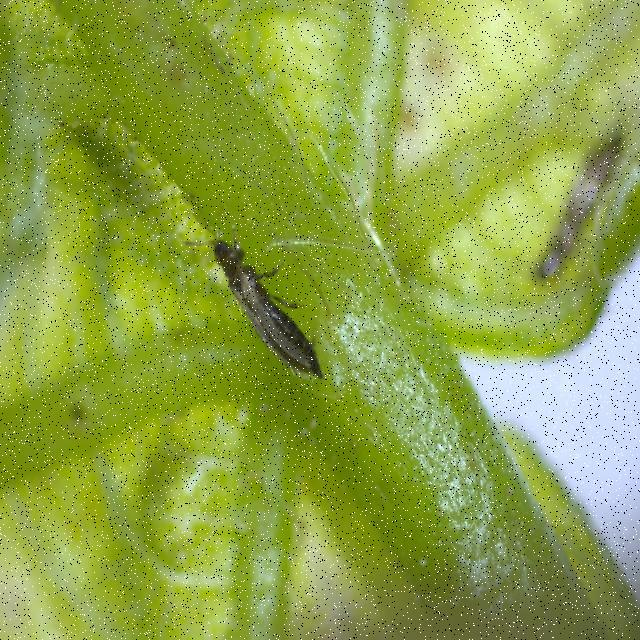Thrips: (177, 187, 354, 420), (514, 107, 633, 306)
